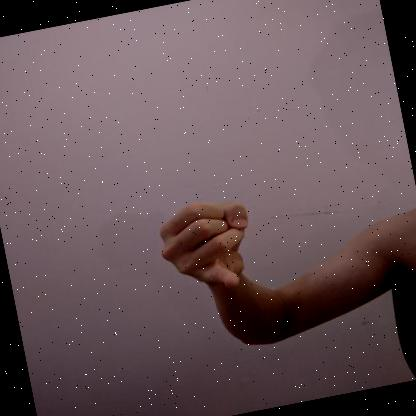J: (159, 201, 248, 287)
